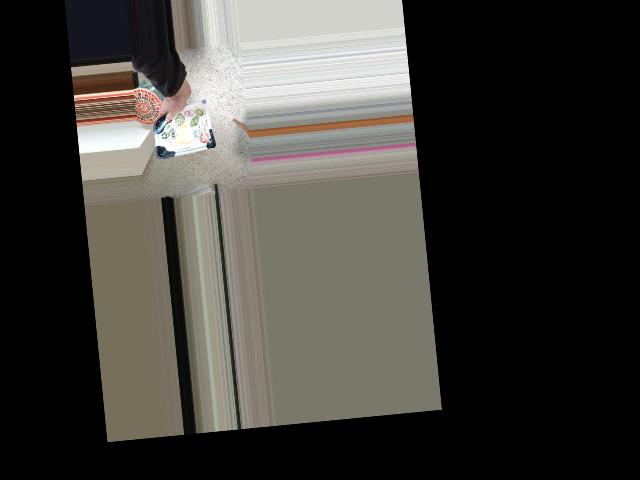cheese: (158, 90, 214, 141)
